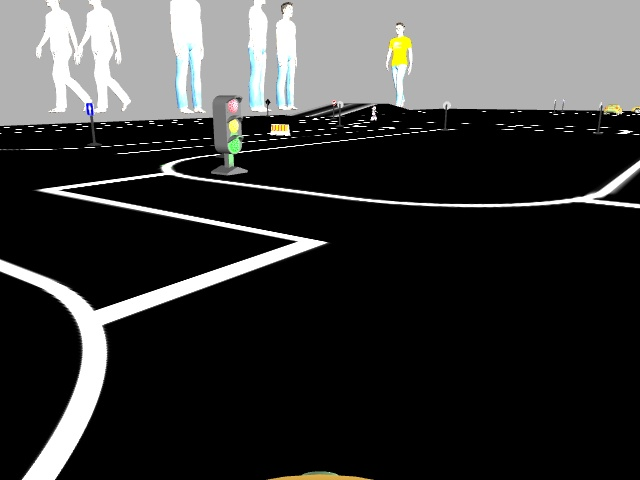ClosedRoadStand: (268, 124, 288, 135)
TrafficLight: (212, 98, 243, 154)
